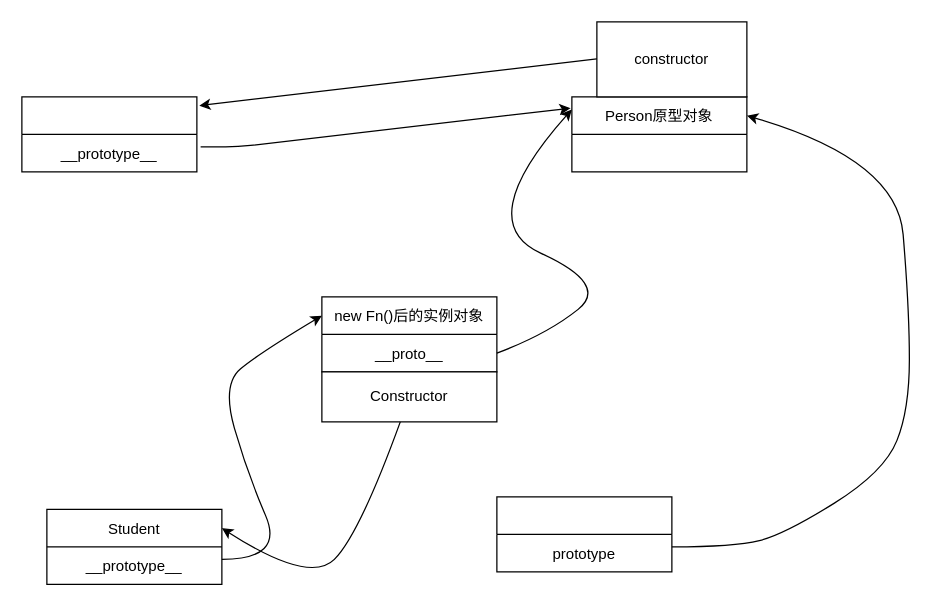
Some shapes in this 931 by 606 pixel diagram are drawn without their labels. The box of each missing label's shape, as (x1, y1, x2, y2) in pixels:
Fn构造函数: (496, 496, 672, 572)
Person: (21, 96, 197, 172)
